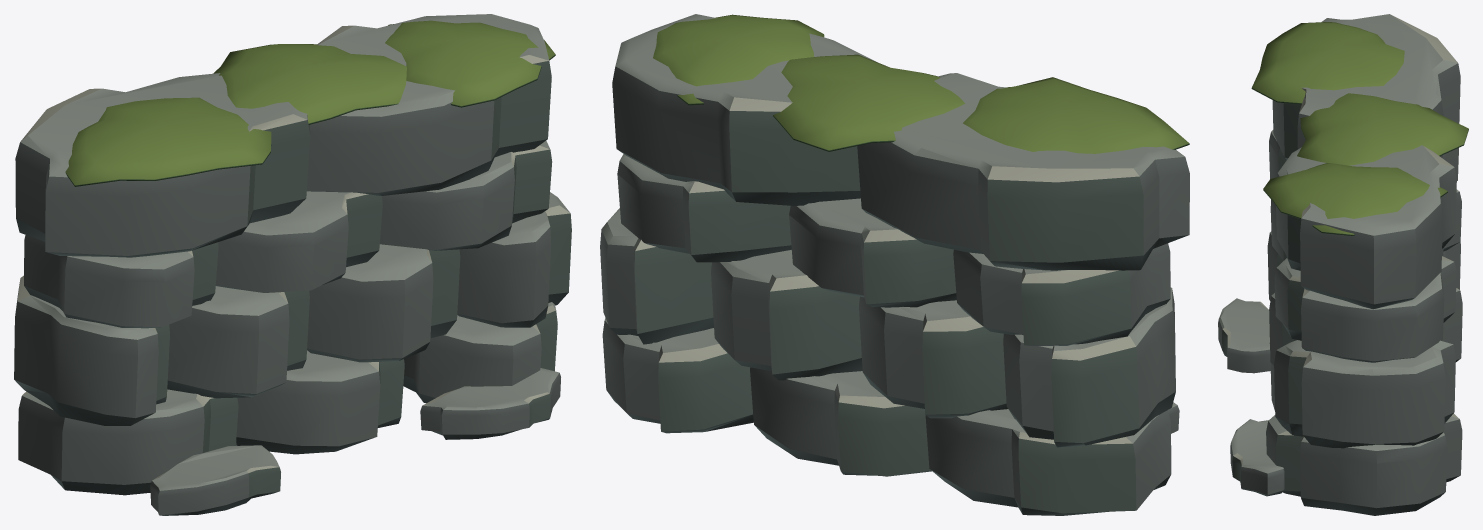
Rendered from fw_cliff_straight.glb.
3 renders of one model, left to right at view 1: azimuth 30°, elevation 25°; view 2: azimuth 150°, elevation 25°; view 3: azimuth 270°, elevation 25°, orthographic. The views are drawn at different scales.
Visible parts, largest first — view 1: body; view 2: body; view 3: body.
Boxes of the visible parts, x1,y1,x2,y2 form: body: (14,14,571,515); body: (600,14,1189,515); body: (1218,14,1468,515).
Bounding box in the file's own units: 3.36 × 2.08 × 1.58.
